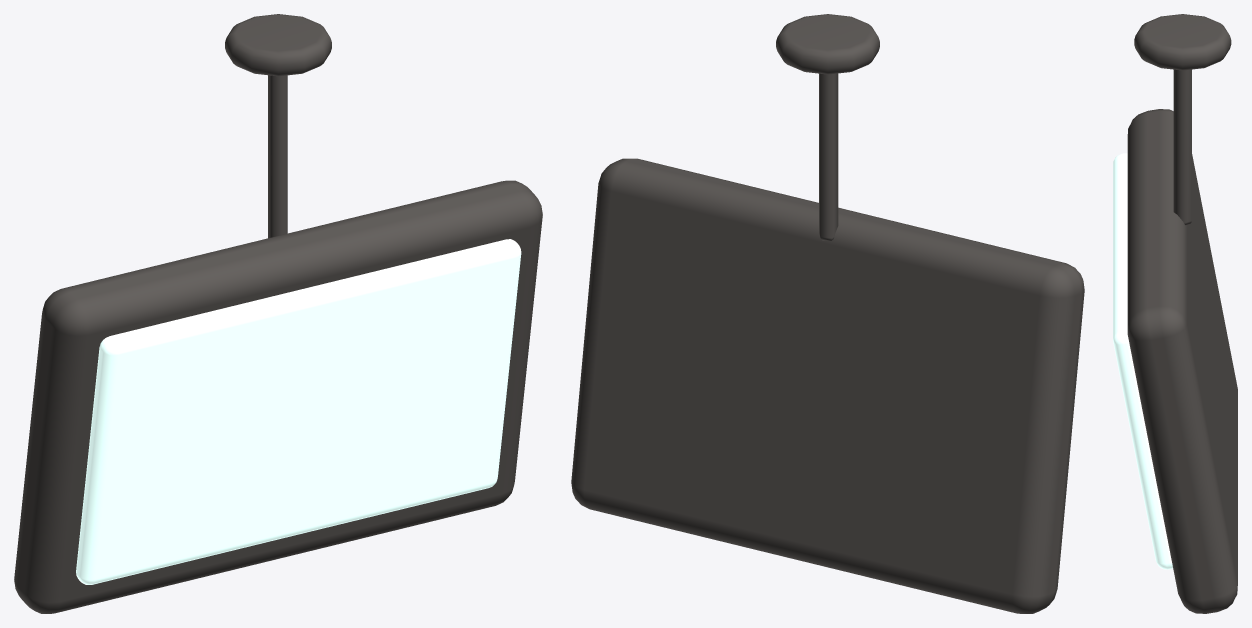
File: hanging_screen.glb
3 renders of one model, left to right at view 1: azimuth 30°, elevation 25°; view 2: azimuth 150°, elevation 25°; view 3: azimuth 270°, elevation 25°, orthographic. The views are drawn at different scales.
Visible parts, largest first — view 1: hanging_screen_mesh; view 2: hanging_screen_mesh; view 3: hanging_screen_mesh.
Part boxes in pixels (x1,y1,x2,y2): hanging_screen_mesh: (14,14,542,613); hanging_screen_mesh: (571,14,1084,613); hanging_screen_mesh: (1113,14,1237,613).
Bounding box in the file's own units: 0.42 × 0.4387 × 0.1028.
